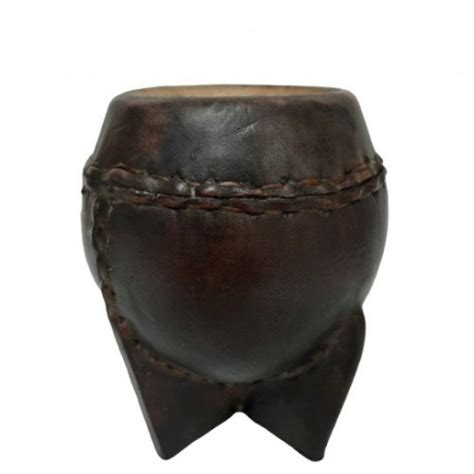cuero: (80, 77, 390, 464)
